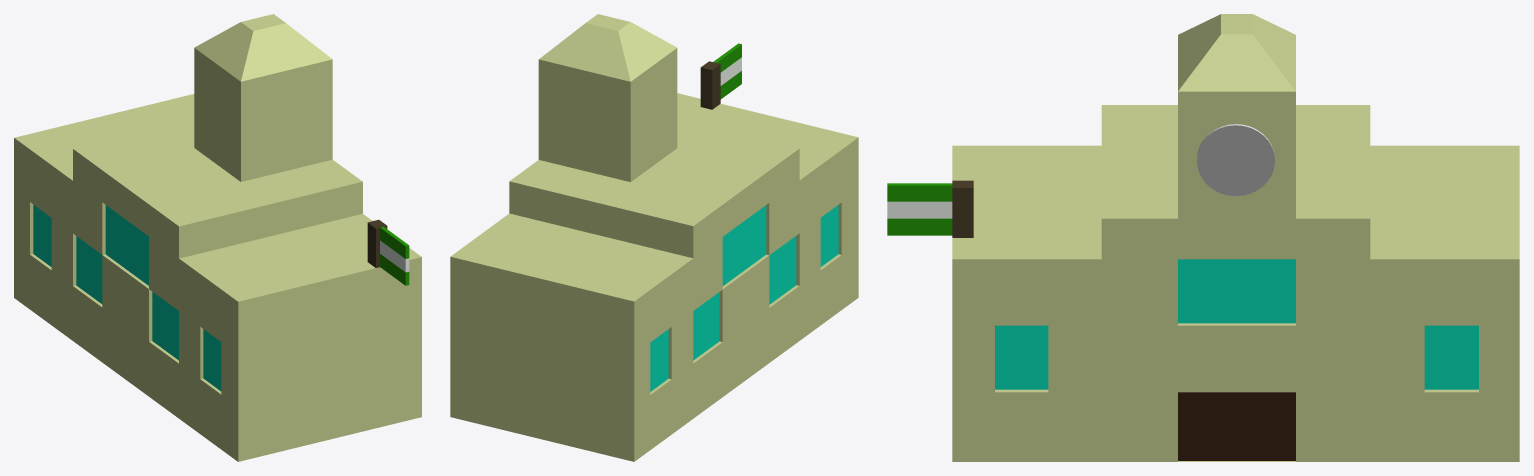
The model's file is ayuntamiento.fbx.
3 views of the same model, side by side, from view 1: azimuth 30°, elevation 25°; view 2: azimuth 150°, elevation 25°; view 3: azimuth 270°, elevation 25° (orthographic). The views are drawn at different scales.
Visible parts, largest first — view 1: Cube, Cube.001, Cube.002, Cube.004, Cube.003; view 2: Cube, Cube.001, Cube.004, Cube.002; view 3: Cube, Cube.001, Cube.005, Cilindro, Cube.002, Cube.004, Cube.003.
Part boxes in pixels (<box>): Cube: <box>14,14,421,461</box>; Cube.001: <box>33,204,221,390</box>; Cube.002: <box>380,226,409,285</box>; Cube.004: <box>367,219,387,267</box>; Cube.003: <box>380,240,409,272</box>; Cube: <box>450,14,858,461</box>; Cube.001: <box>650,205,838,391</box>; Cube.004: <box>700,61,720,109</box>; Cube.002: <box>713,43,741,99</box>; Cube: <box>952,14,1519,461</box>; Cube.001: <box>995,259,1478,389</box>; Cube.005: <box>1178,392,1295,460</box>; Cilindro: <box>1197,125,1274,196</box>; Cube.002: <box>887,183,952,235</box>; Cube.004: <box>952,180,973,237</box>; Cube.003: <box>887,201,952,218</box>.
Size of the model in its own units: 695 by 1155 by 1616.
